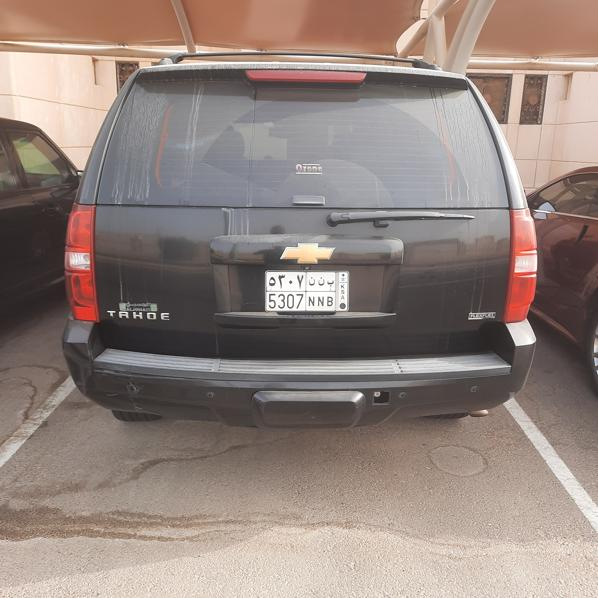numberplate: (265, 270, 349, 312)
